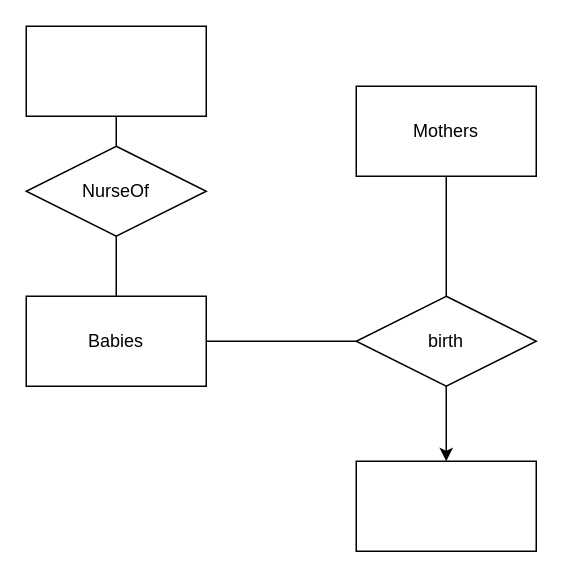
The diagram is 563 pixels wide and 578 high, and some of its shapes have lost their labels. The centre of each missing label's shape, as x and y in pixels:
"Doctors" belongs at [445,505].
"Nurses" belongs at [115,70].
